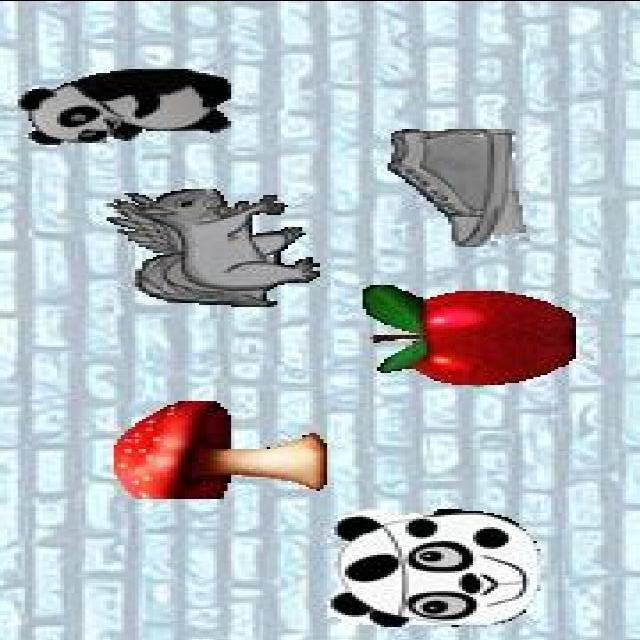Other Objects: (360, 284, 576, 384), (112, 400, 328, 498), (388, 127, 523, 245)
